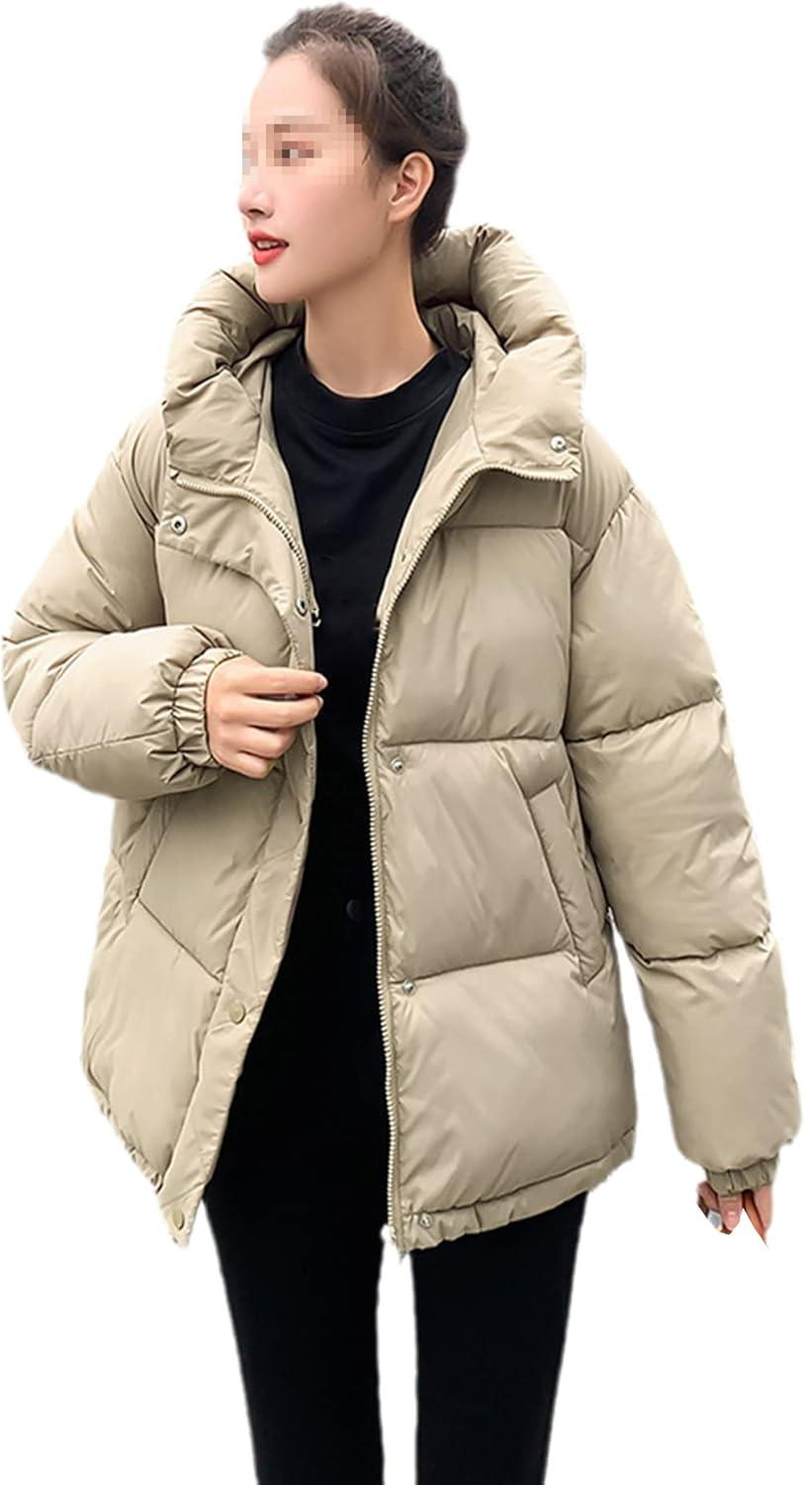coat: (0, 218, 800, 1264)
trousers: (198, 1145, 590, 1485)
